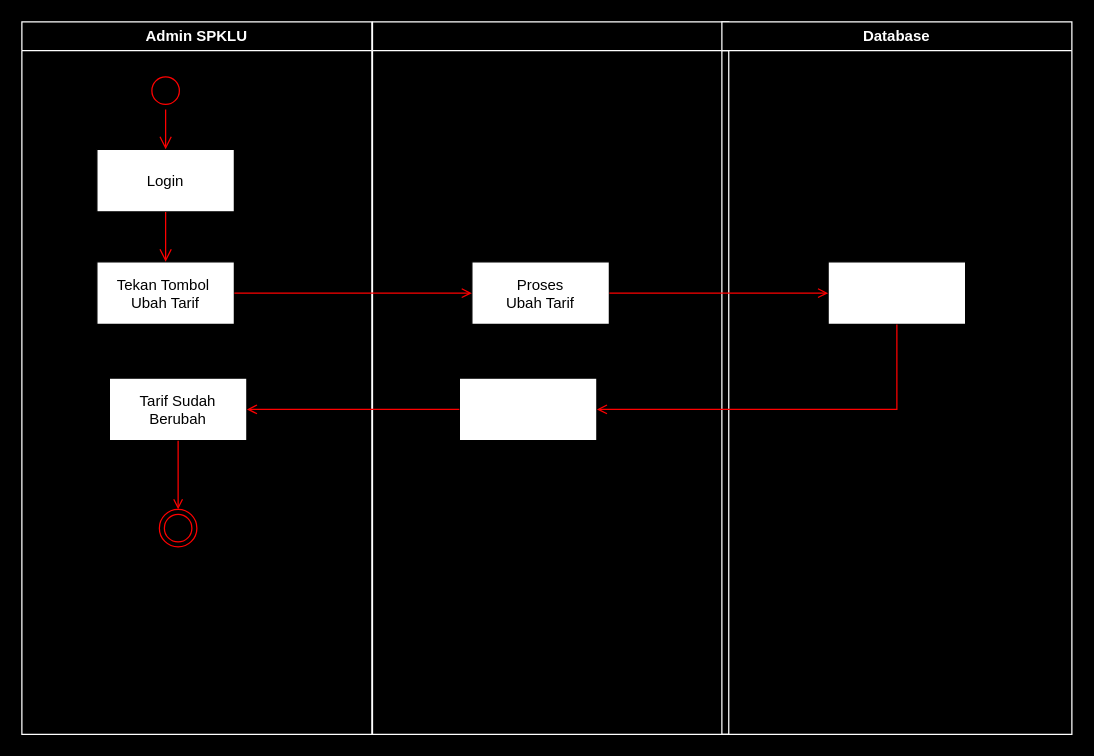
This 1094x756 diagram has some shape labels left out. The shapes that lost their labels are listed below. From the top down, each one's box as (x1, y1, x2, y2) in pixels, then its label:
(827, 261, 966, 324): Simpan Data Ubah Tarif
(371, 21, 729, 734): Back End System
(458, 377, 597, 441): Nontifikasi Tarif Sudah Berubah
